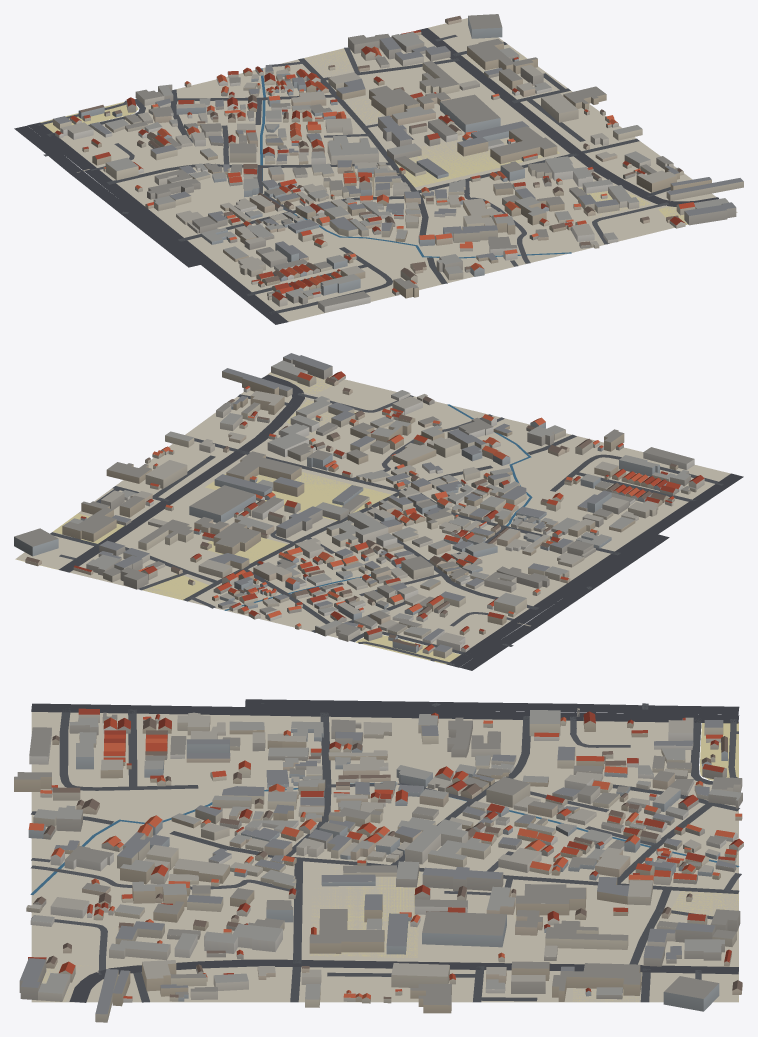
3 renders of one model, top to bottom at view 1: azimuth 30°, elevation 25°; view 2: azimuth 150°, elevation 25°; view 3: azimuth 270°, elevation 25°, orthographic. The views are drawn at different scales.
Parts seen in each view (by area): view 1: landuse, buildings_roofs, buildings_walls, roads, water; view 2: buildings_roofs, landuse, buildings_walls, roads, water; view 3: landuse, buildings_roofs, buildings_walls, roads, water.
Boxes of the visible parts, box(x1,y1,x2,y2) form: landuse: box(40, 18, 737, 321); buildings_roofs: box(53, 14, 743, 306); buildings_walls: box(53, 16, 743, 312); roads: box(14, 28, 718, 324); water: box(260, 68, 571, 258); buildings_roofs: box(14, 353, 704, 652); landuse: box(15, 372, 730, 664); buildings_walls: box(14, 357, 704, 658); roads: box(50, 374, 743, 670); water: box(224, 404, 532, 610); landuse: box(31, 712, 738, 1002); buildings_roofs: box(14, 708, 743, 1014); buildings_walls: box(14, 713, 743, 1022); roads: box(31, 699, 741, 1002); water: box(30, 782, 739, 894).
Bounding box in the file's own units: 541 × 9.89 × 516.
